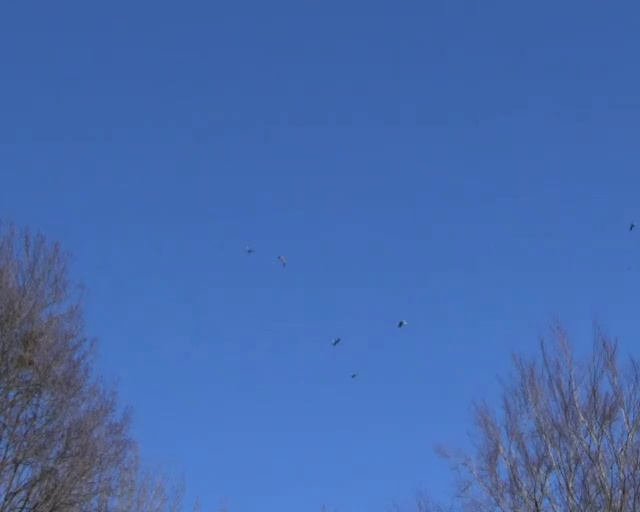BIRD: (277, 255, 286, 267)
